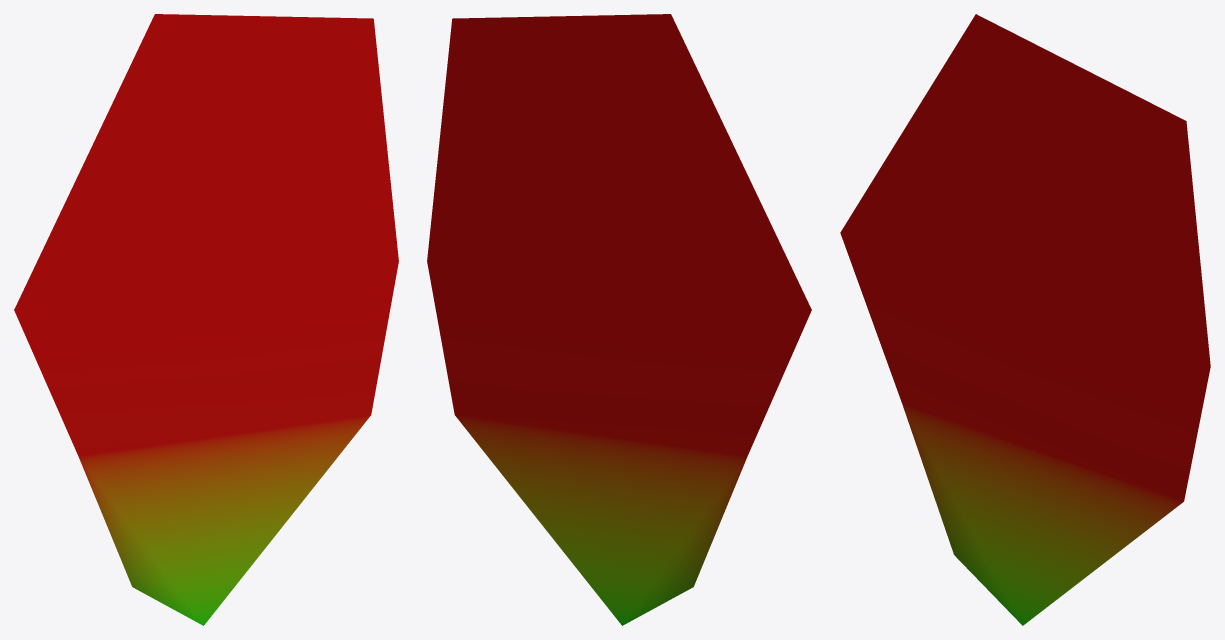
Rendered from European Spindle_LOD4_Var7.fbx.
3 renders of one model, left to right at view 1: azimuth 30°, elevation 25°; view 2: azimuth 150°, elevation 25°; view 3: azimuth 330°, elevation 25°, orthographic. The views are drawn at different scales.
Parts seen in each view (by area): view 1: _w3bx_Var7_LOD4; view 2: _w3bx_Var7_LOD4; view 3: _w3bx_Var7_LOD4.
Boxes of the visible parts, x1,y1,x2,y2 form: _w3bx_Var7_LOD4: [14, 14, 398, 625]; _w3bx_Var7_LOD4: [427, 14, 811, 625]; _w3bx_Var7_LOD4: [840, 14, 1210, 625].
Size of the model in its own units: 57.13 by 88.5 by 0.
